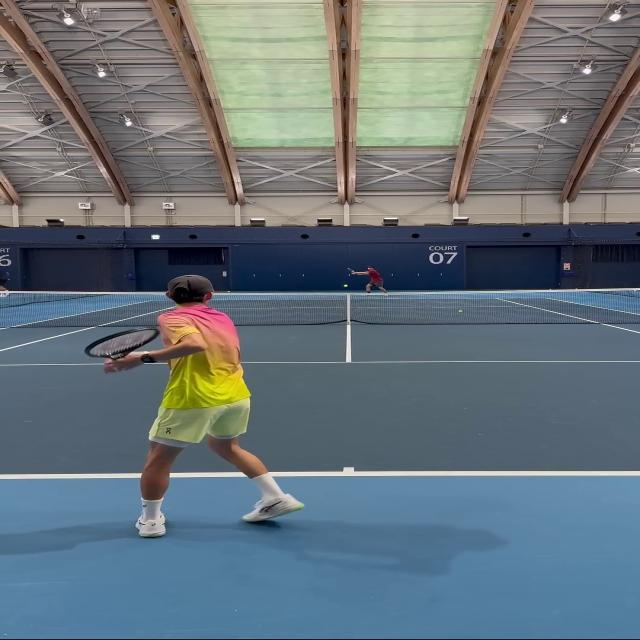tennis_ball: (344, 285, 348, 287)
